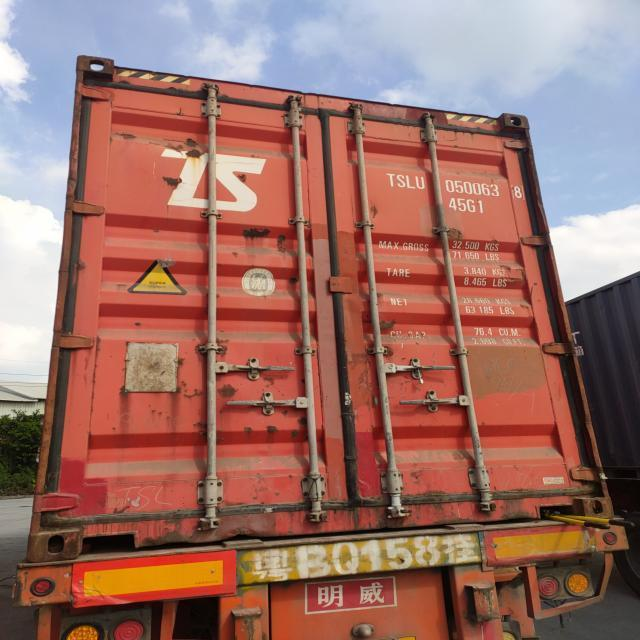ISO: (449, 199, 486, 215)
container_number: (388, 174, 529, 197)
